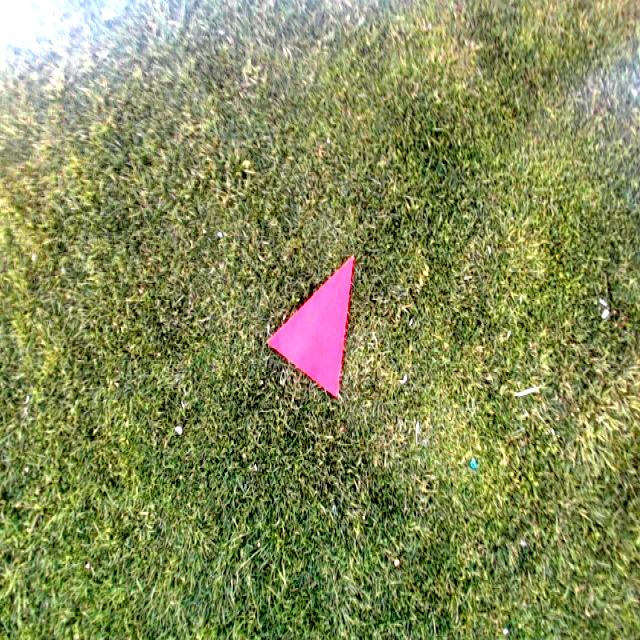red_triangle: (269, 258, 355, 402)
